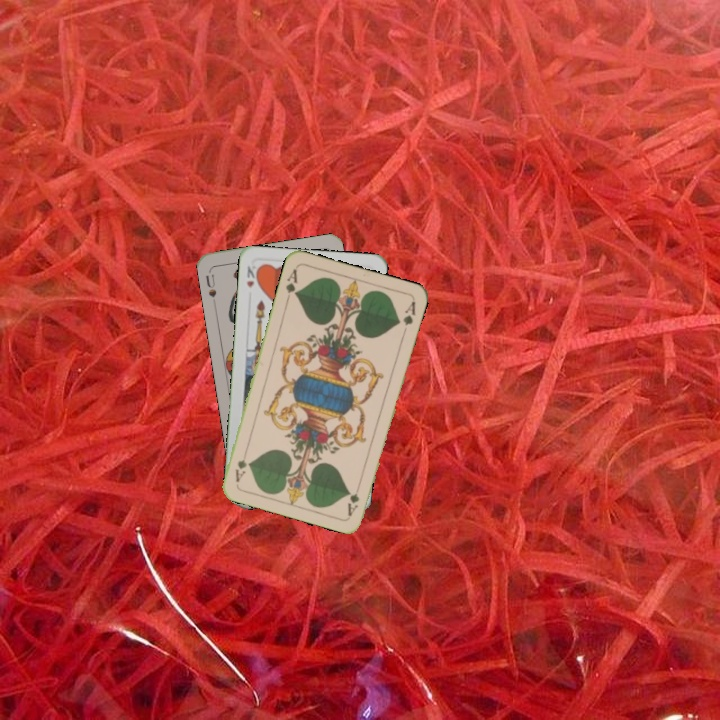GA: (343, 479, 363, 518), (282, 265, 300, 304)
HK: (242, 261, 261, 290)
SU: (202, 267, 219, 300)
